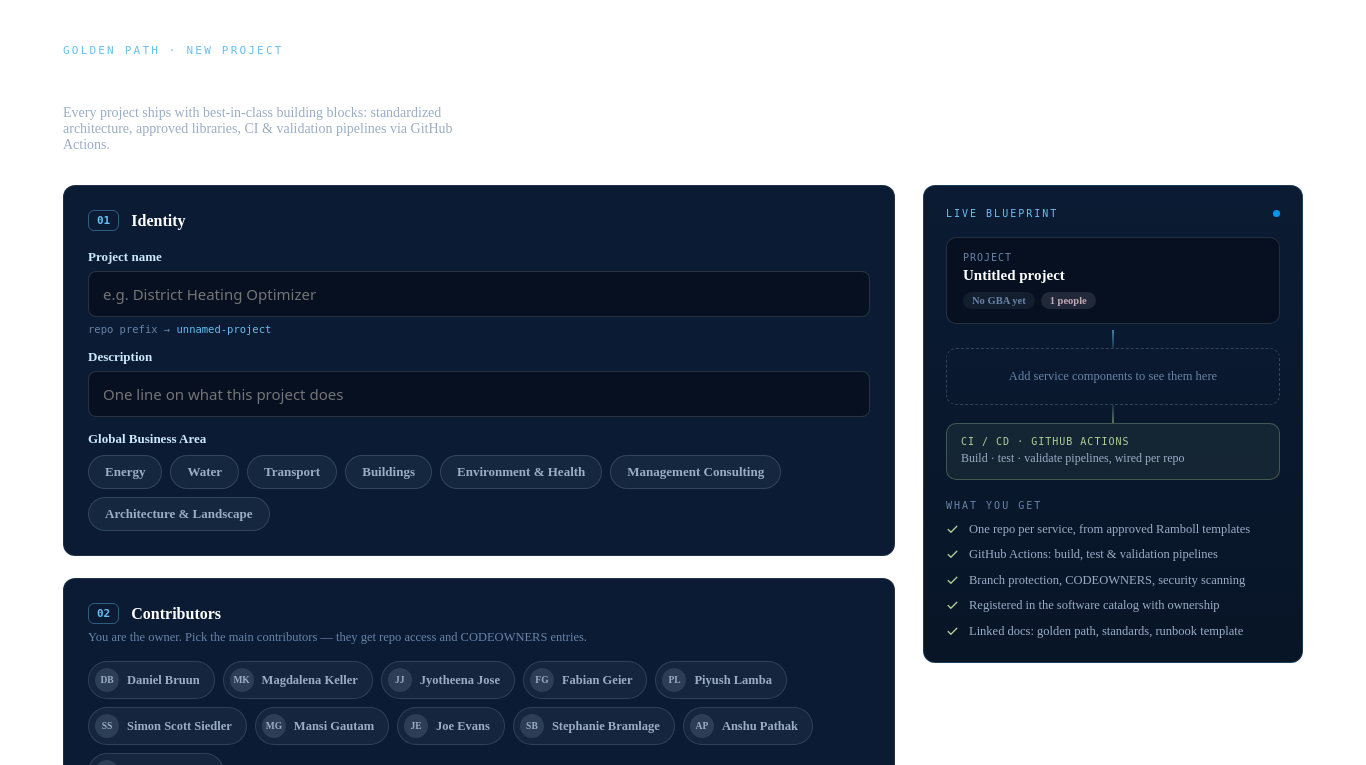
WizardScreen › counts the owner plus toggled contributors in the blueprint team chip
The width and height of the screenshot is (1366, 765).
Check: the text "1 people" is shown, box [1041,292,1096,309]
Click the text "Daniel Bruun" at coordinates (151, 680), box [88,661,215,699]
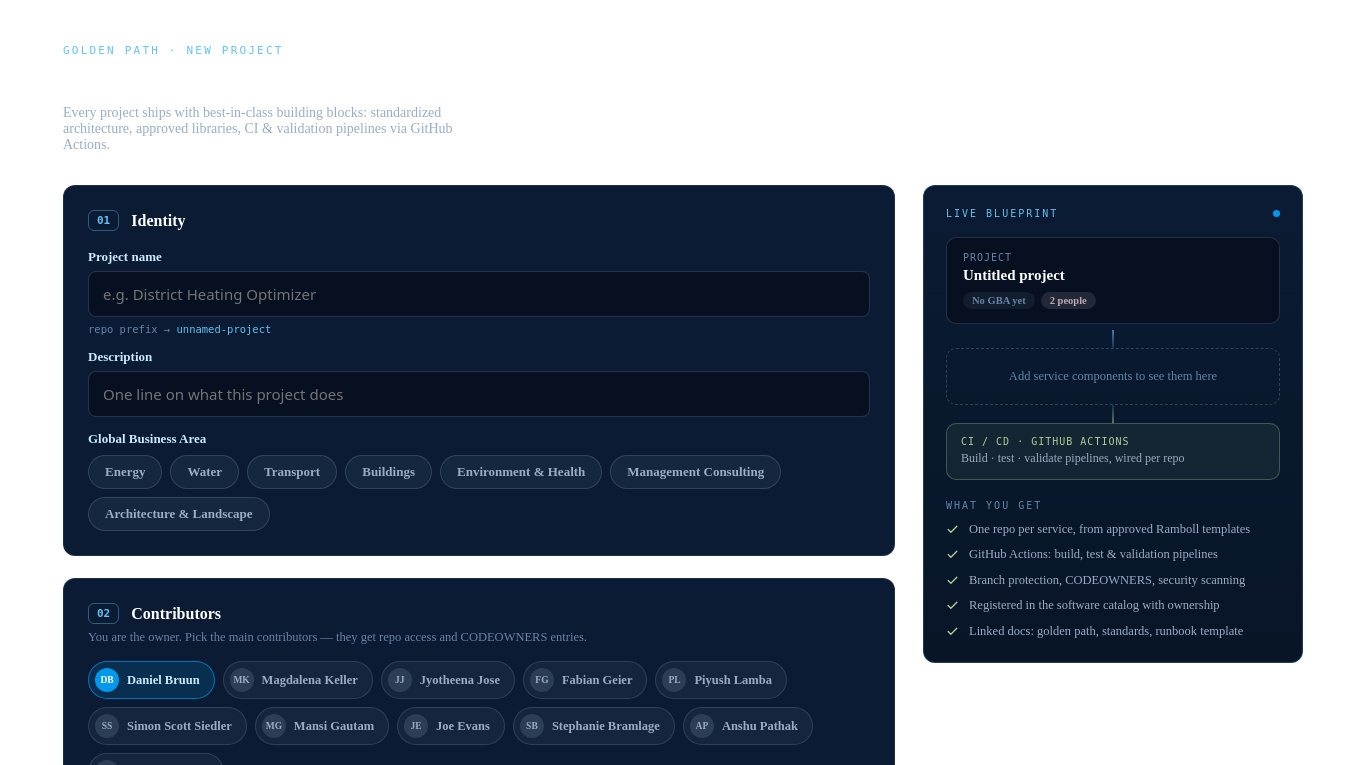
Click the text "Magdalena Keller" at coordinates (298, 680), box [223,661,373,699]
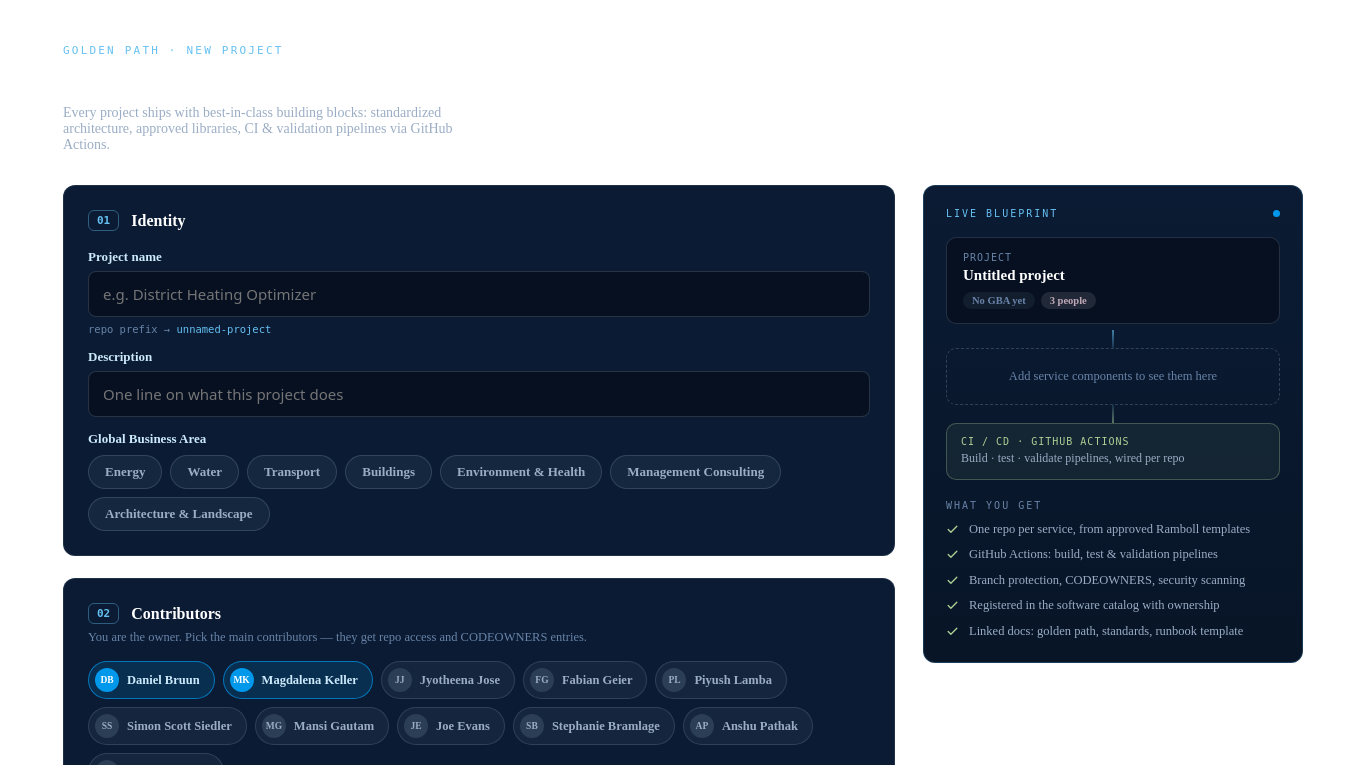
Check: the text "3 people" is shown, box [1041,292,1096,309]
Click the text "Daniel Bruun" at coordinates (151, 680), box [88,661,215,699]
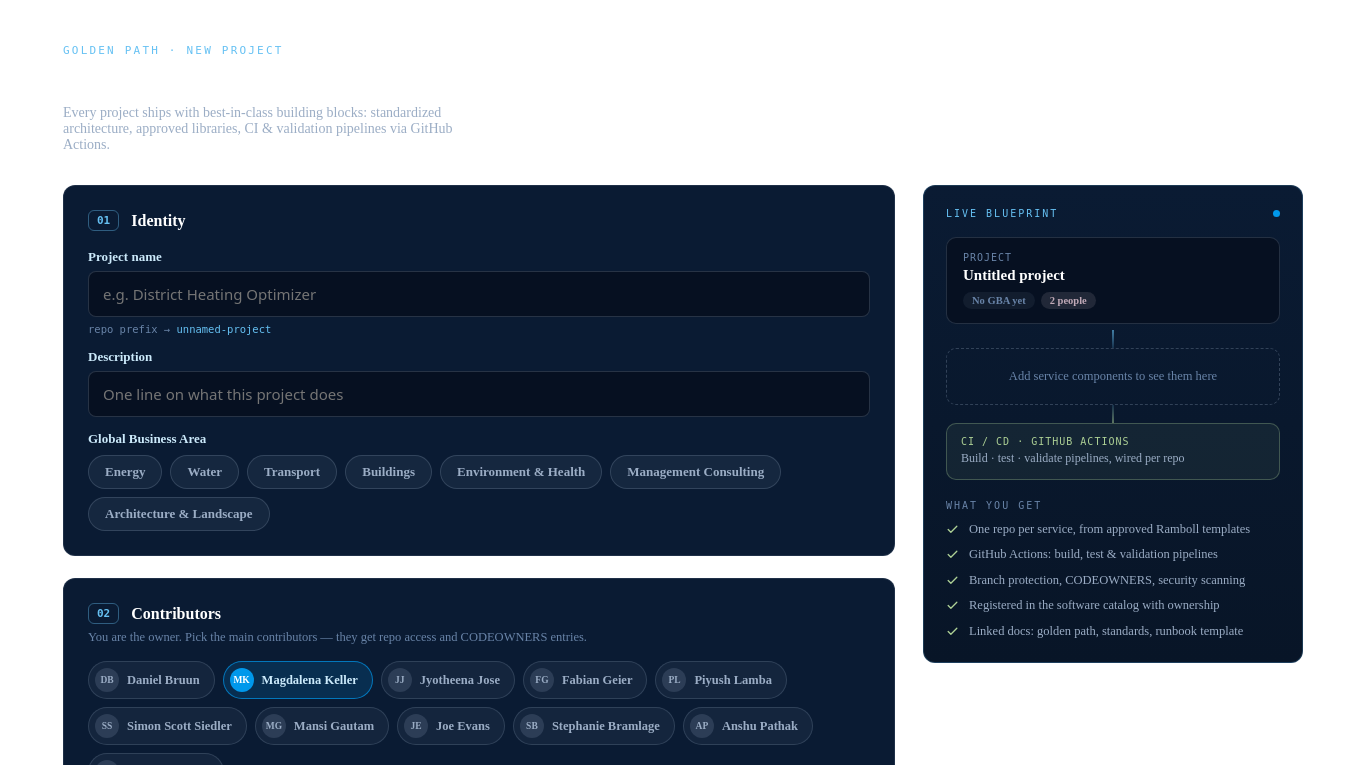
Check: the text "2 people" is shown, box [1041,292,1096,309]
